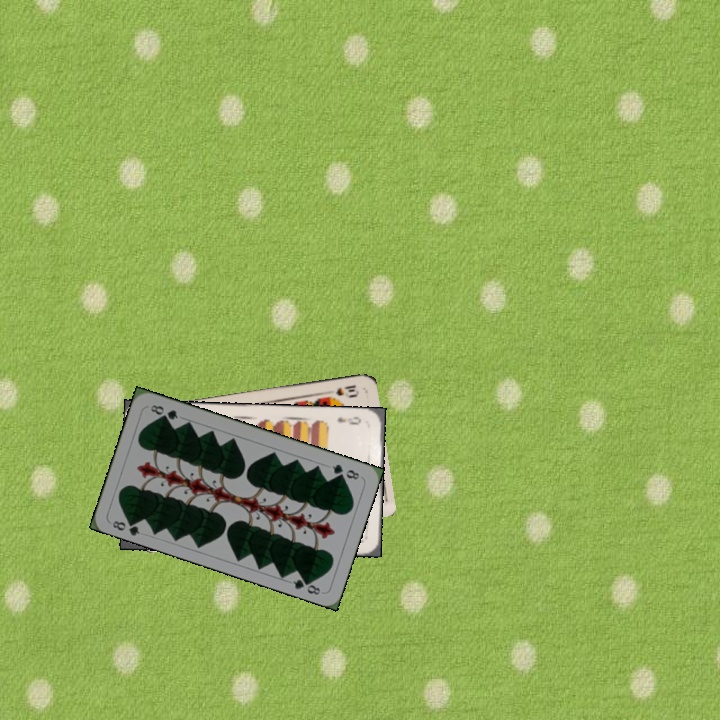E9: (333, 412, 364, 427)
G8: (107, 514, 142, 538), (328, 460, 362, 482)
S10: (322, 381, 361, 398)
